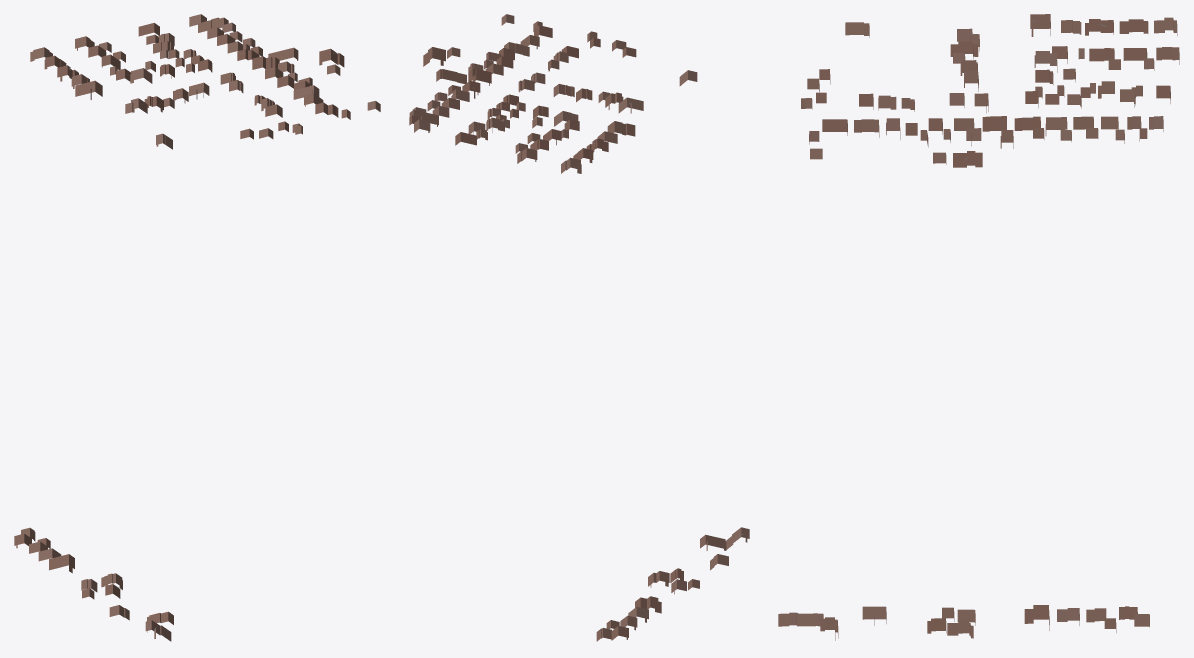
File: c_1638_17836_buildings_residential.glb
3 renders of one model, left to right at view 1: azimuth 30°, elevation 25°; view 2: azimuth 150°, elevation 25°; view 3: azimuth 270°, elevation 25°, orthographic. The views are drawn at different scales.
Visible parts, largest first — view 1: geometry_0; view 2: geometry_0; view 3: geometry_0.
Boxes of the visible parts, x1,y1,x2,y2 form: geometry_0: [14, 14, 380, 641]; geometry_0: [409, 14, 749, 641]; geometry_0: [778, 14, 1179, 640].
Size of the model in its own units: 267 by 466 by 272.
